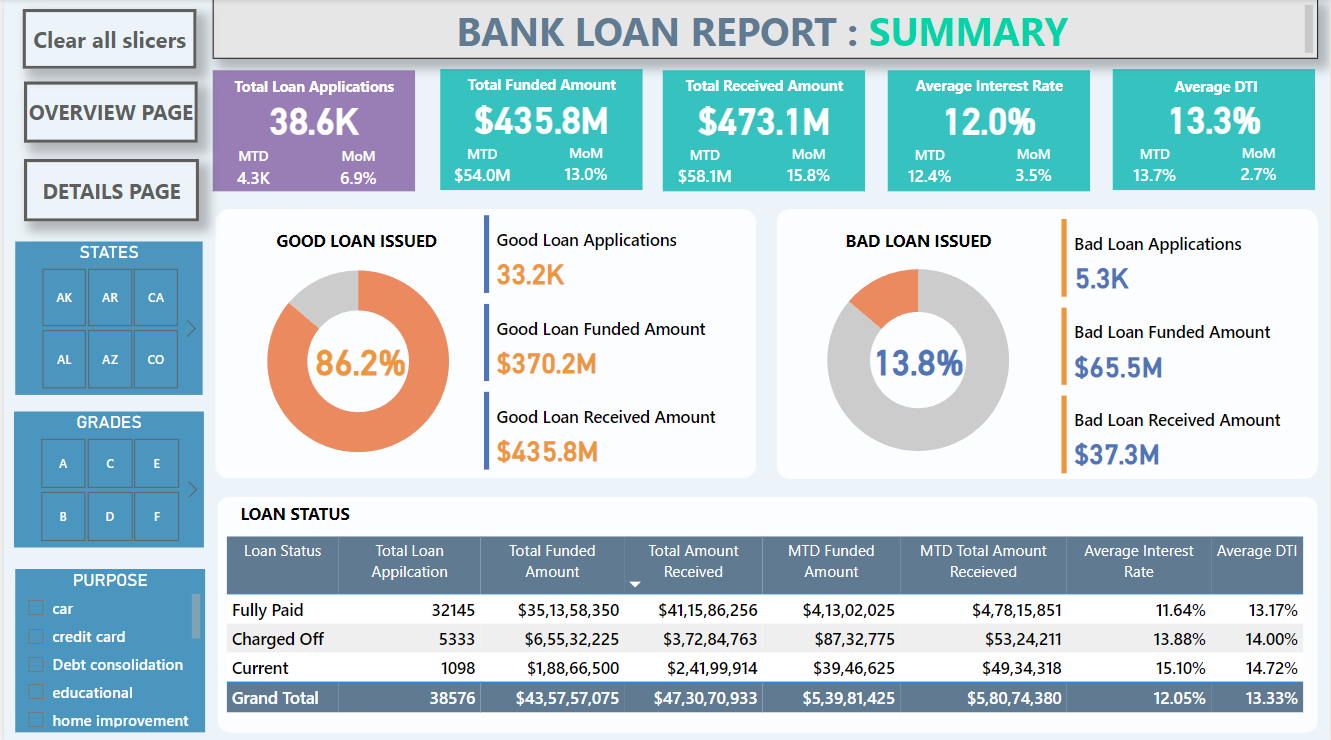

The dashboard page shown, as its layout file describes it:
{"tool":"powerbi","page":{"name":"Summary","canvas":[1280,720],"ordinal":0},"visuals":[{"type":"shape","box":[203.9,202.7,522,260],"z":0},{"type":"textbox","box":[201.4,0,1066.1,57.9],"z":1000},{"type":"group","id":"g1","title":"Group 1","box":[200.9,69.1,196,117],"z":2000},{"type":"group","id":"g2","title":"Group 1","box":[420.9,67.5,195.4,117],"z":3000},{"type":"shape","box":[420.9,67.5,195.4,117],"z":3000,"group":"g2"},{"type":"shape","box":[1070,68.1,195.4,117],"z":3000,"group":"g5"},{"type":"shape","box":[635.7,68.5,195.4,117],"z":3000,"group":"g3"},{"type":"shape","box":[852.9,68.5,195.4,117],"z":3000,"group":"g4"},{"type":"shape","box":[201.5,69.1,195.4,117],"z":3000,"group":"g1"},{"type":"card","fields":{"Values":["bank_loan.Total Funded Amount"]},"box":[420.9,92.8,195.4,42.2],"z":4000,"group":"g2"},{"type":"card","fields":{"Values":["bank_loan.Average DTI"]},"box":[1070.1,92.9,195.4,42.2],"z":4000,"group":"g5"},{"type":"card","fields":{"Values":["bank_loan.Total Amount Received"]},"box":[635.7,93.8,195.4,42.2],"z":4000,"group":"g3"},{"type":"card","fields":{"Values":["bank_loan.Average Interest Rate"]},"box":[852.9,93.8,195.4,42.2],"z":4000,"group":"g4"},{"type":"card","fields":{"Values":["bank_loan.Total Loan Appilcation"]},"box":[201.5,94.4,195.4,42.2],"z":4000,"group":"g1"},{"type":"card","fields":{"Values":["bank_loan.Good Loan %"]},"box":[282.2,326.8,124.2,42.2],"z":4000},{"type":"textbox","box":[420.9,67.5,195.4,33.8],"z":5000,"group":"g2"},{"type":"textbox","box":[635.7,68.5,195.4,33.8],"z":5000,"group":"g3"},{"type":"textbox","box":[852.9,68.5,195.4,33.8],"z":5000,"group":"g4"},{"type":"textbox","box":[200.9,70.2,195.4,33.8],"z":5000,"group":"g1"},{"type":"textbox","box":[1072.2,70.3,194.2,31.4],"z":5000,"group":"g5"},{"type":"textbox","box":[241.3,217.2,197.9,33.8],"z":5000},{"type":"group","id":"g3","title":"Group 1","box":[635.7,68.5,195.4,118.2],"z":6000},{"type":"card","title":"MTD","fields":{"Values":["bank_loan.MTD Funded Amount"]},"box":[423,140.2,76,44.6],"z":6000,"group":"g2"},{"type":"card","title":"MTD","fields":{"Values":["bank_loan.MTD Average DTI"]},"box":[1072.3,140.2,76,44.6],"z":6000,"group":"g5"},{"type":"card","title":"MTD","fields":{"Values":["bank_loan.MTD Total Amount Receieved"]},"box":[637.8,141.2,76,44.6],"z":6000,"group":"g3"},{"type":"card","title":"MTD","fields":{"Values":["bank_loan.MTD Average Interest Rate"]},"box":[855,141.2,76,44.6],"z":6000,"group":"g4"},{"type":"card","title":"MTD","fields":{"Values":["bank_loan.MTD Loan Applications"]},"box":[208.7,142.7,63.9,43.4],"z":6000,"group":"g1"},{"type":"group","id":"g4","title":"Group 1","box":[852.9,68.5,195.4,118.2],"z":7000},{"type":"card","title":"MoM","fields":{"Values":["bank_loan.MoM Funded Amount"]},"box":[530.4,139,61.5,45.8],"z":7000,"group":"g2"},{"type":"card","title":"MoM","fields":{"Values":["bank_loan.MoM Average DTI"]},"box":[1179.7,139,61.5,45.8],"z":7000,"group":"g5"},{"type":"card","title":"MoM","fields":{"Values":["bank_loan.MoM Total Received Amount"]},"box":[745.2,140,61.5,45.8],"z":7000,"group":"g3"},{"type":"card","title":"MoM","fields":{"Values":["bank_loan.MoM Average Interest Rate"]},"box":[962.4,140,61.5,45.8],"z":7000,"group":"g4"},{"type":"card","title":"MoM","fields":{"Values":["bank_loan.MoM Loan Application"]},"box":[308.8,142.7,63.9,43.4],"z":7000,"group":"g1"},{"type":"donutChart","fields":{"Category":["bank_loan.Good Vs Bad Loan"],"Y":["bank_loan.Total Loan Appilcation"]},"box":[217.1,235.2,249.6,229.1],"z":8000},{"type":"group","id":"g5","title":"Group 1","box":[1070,68.1,196.5,117],"z":9000},{"type":"shape","box":[745.6,202.7,522.4,260.6],"z":10000},{"type":"cardVisual","fields":{"Data":["bank_loan.Good Loan Applications","bank_loan.Good Loan Funded Amount","bank_loan.Good Loan Received Amount"]},"box":[458.3,203.8,249.6,256.9],"z":11000},{"type":"donutChart","fields":{"Category":["bank_loan.Good Vs Bad Loan"],"Y":["bank_loan.Total Loan Appilcation"]},"box":[757.6,234,249.7,229.2],"z":12000},{"type":"card","fields":{"Values":["bank_loan.Bad Loan %"]},"box":[825.2,326.9,114.6,42.2],"z":13000},{"type":"cardVisual","fields":{"Data":["bank_loan.Bad Loan Applications","bank_loan.Bad Loan Funded Amount","bank_loan.Bad Loan Received Amount"]},"box":[1015.8,207.5,249.7,257],"z":14000},{"type":"textbox","box":[757.6,217.2,249.7,33.8],"z":15000},{"type":"shape","box":[206.2,480,1061.3,227.9],"z":16000},{"type":"tableEx","fields":{"Values":["bank_loan.loan_status","bank_loan.Total Loan Appilcation","bank_loan.Total Funded Amount","bank_loan.Total Amount Received","bank_loan.MTD Funded Amount","bank_loan.MTD Total Amount Receieved","bank_loan.Average Interest Rate","bank_loan.Average DTI"]},"box":[208.7,513.9,1056.8,194.2],"z":17000},{"type":"textbox","box":[223.2,480.2,183.4,33.8],"z":18000},{"type":"slicer","title":"STATES","fields":{"Values":["bank_loan.address_state"]},"box":[10.9,234,180.9,148.3],"z":19000},{"type":"slicer","title":"GRADES","fields":{"Values":["bank_loan.grade"]},"box":[9.6,398,183.3,131.5],"z":20000},{"type":"slicer","title":"PURPOSE","fields":{"Values":["bank_loan.purpose"]},"box":[10.9,549.9,183.3,158],"z":21000},{"type":"actionButton","box":[19.3,79.6,167.6,59.1],"z":22000},{"type":"actionButton","box":[19.3,154.4,168.8,60.3],"z":23000},{"type":"actionButton","box":[18.1,9.6,167.6,57.9],"z":24000}]}

Visuals, with their boxes in screenshot pixels (x1, y1, x2, y2), scaled from the page's 1280x720 canvas onto the 1331x740 screenshot:
shape: x1=212 y1=208 x2=755 y2=476
textbox: x1=209 y1=0 x2=1318 y2=60
"Group 1" group: x1=209 y1=71 x2=413 y2=191
"Group 1" group: x1=438 y1=69 x2=641 y2=190
shape: x1=438 y1=69 x2=641 y2=190
shape: x1=1113 y1=70 x2=1316 y2=190
shape: x1=661 y1=70 x2=864 y2=191
shape: x1=887 y1=70 x2=1090 y2=191
shape: x1=210 y1=71 x2=413 y2=191
card - bank_loan.Total Funded Amount: x1=438 y1=95 x2=641 y2=139
card - bank_loan.Average DTI: x1=1113 y1=95 x2=1316 y2=139
card - bank_loan.Total Amount Received: x1=661 y1=96 x2=864 y2=140
card - bank_loan.Average Interest Rate: x1=887 y1=96 x2=1090 y2=140
card - bank_loan.Total Loan Appilcation: x1=210 y1=97 x2=413 y2=140
card - bank_loan.Good Loan %: x1=293 y1=336 x2=423 y2=379
textbox: x1=438 y1=69 x2=641 y2=104
textbox: x1=661 y1=70 x2=864 y2=105
textbox: x1=887 y1=70 x2=1090 y2=105
textbox: x1=209 y1=72 x2=412 y2=107
textbox: x1=1115 y1=72 x2=1317 y2=105
textbox: x1=251 y1=223 x2=457 y2=258
"Group 1" group: x1=661 y1=70 x2=864 y2=192
"MTD" card: x1=440 y1=144 x2=519 y2=190
"MTD" card: x1=1115 y1=144 x2=1194 y2=190
"MTD" card: x1=663 y1=145 x2=742 y2=191
"MTD" card: x1=889 y1=145 x2=968 y2=191
"MTD" card: x1=217 y1=147 x2=283 y2=191
"Group 1" group: x1=887 y1=70 x2=1090 y2=192
"MoM" card: x1=552 y1=143 x2=615 y2=190
"MoM" card: x1=1227 y1=143 x2=1291 y2=190
"MoM" card: x1=775 y1=144 x2=839 y2=191
"MoM" card: x1=1001 y1=144 x2=1065 y2=191
"MoM" card: x1=321 y1=147 x2=388 y2=191
donutChart - bank_loan.Good Vs Bad Loan x bank_loan.Total Loan Appilcation: x1=226 y1=242 x2=485 y2=477
"Group 1" group: x1=1113 y1=70 x2=1317 y2=190
shape: x1=775 y1=208 x2=1319 y2=476
cardVisual - bank_loan.Good Loan Applications x bank_loan.Good Loan Funded Amount: x1=477 y1=209 x2=736 y2=473
donutChart - bank_loan.Good Vs Bad Loan x bank_loan.Total Loan Appilcation: x1=788 y1=240 x2=1047 y2=476
card - bank_loan.Bad Loan %: x1=858 y1=336 x2=977 y2=379
cardVisual - bank_loan.Bad Loan Applications x bank_loan.Bad Loan Funded Amount: x1=1056 y1=213 x2=1316 y2=477
textbox: x1=788 y1=223 x2=1047 y2=258
shape: x1=214 y1=493 x2=1318 y2=728
tableEx - bank_loan.loan_status x bank_loan.Total Loan Appilcation: x1=217 y1=528 x2=1316 y2=728
textbox: x1=232 y1=494 x2=423 y2=528
"STATES" slicer: x1=11 y1=240 x2=199 y2=393
"GRADES" slicer: x1=10 y1=409 x2=201 y2=544
"PURPOSE" slicer: x1=11 y1=565 x2=202 y2=728
actionButton: x1=20 y1=82 x2=194 y2=143
actionButton: x1=20 y1=159 x2=196 y2=221
actionButton: x1=19 y1=10 x2=193 y2=69
